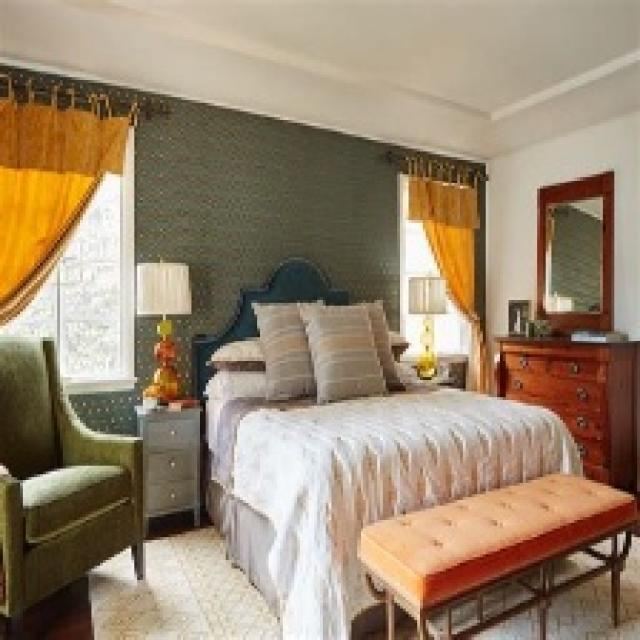Bed: (188, 254, 583, 637)
